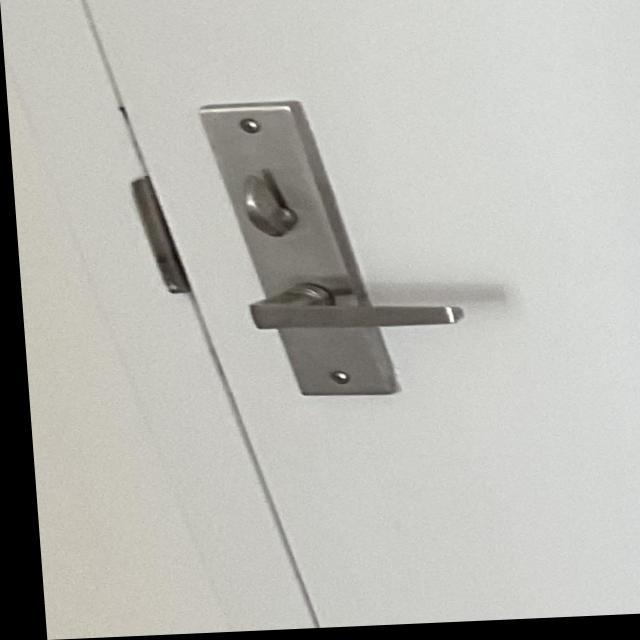door_handle: (222, 260, 479, 365)
